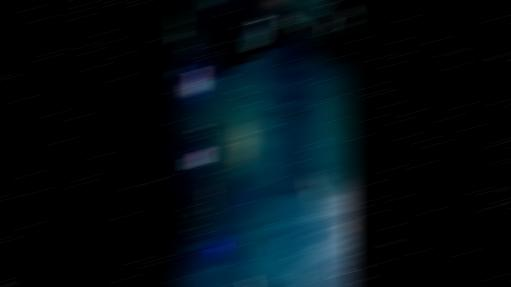Fish: (245, 17, 268, 49), (305, 172, 320, 201), (279, 15, 306, 30), (335, 214, 352, 235), (342, 7, 353, 34), (294, 264, 307, 286), (317, 165, 332, 184), (267, 234, 282, 253), (313, 192, 326, 213), (278, 225, 291, 242), (282, 107, 293, 124), (322, 18, 333, 35), (309, 201, 320, 216), (342, 8, 353, 21), (264, 114, 279, 123), (344, 21, 353, 35), (255, 223, 266, 232), (332, 261, 343, 270), (258, 106, 269, 115), (245, 110, 256, 118), (259, 225, 270, 232), (256, 212, 267, 219), (260, 210, 271, 217), (253, 214, 263, 221), (241, 106, 254, 111), (268, 129, 281, 134), (176, 68, 184, 76), (249, 216, 258, 223), (254, 112, 262, 119), (246, 121, 254, 127), (252, 92, 263, 95), (247, 103, 256, 106), (343, 283, 348, 286)
